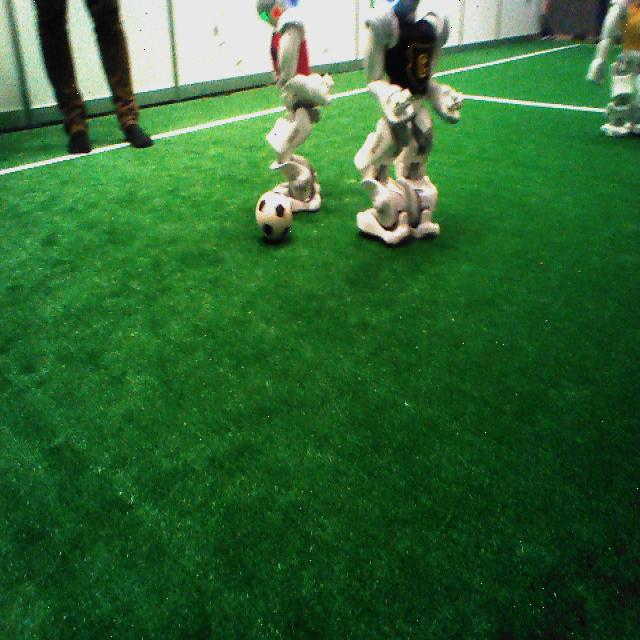ball: (248, 183, 294, 253)
